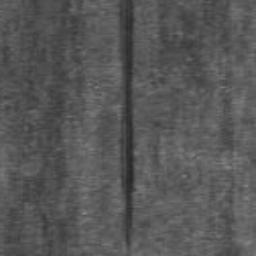Scratches: (119, 0, 138, 247)
